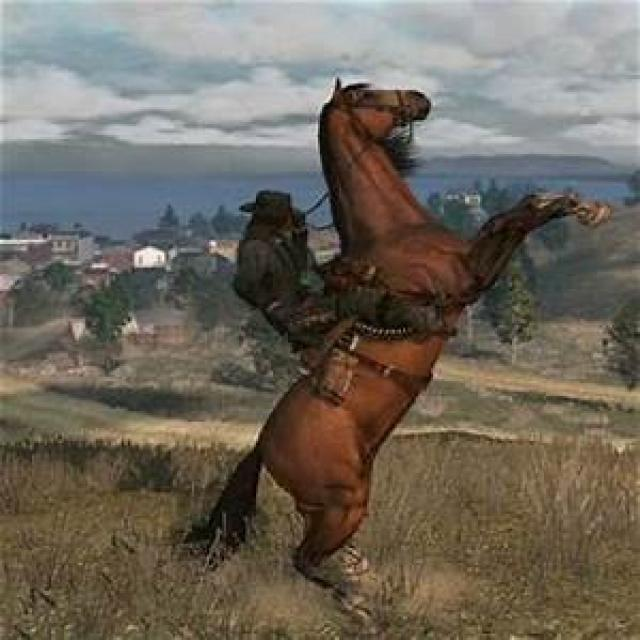horse: (177, 75, 612, 633)
